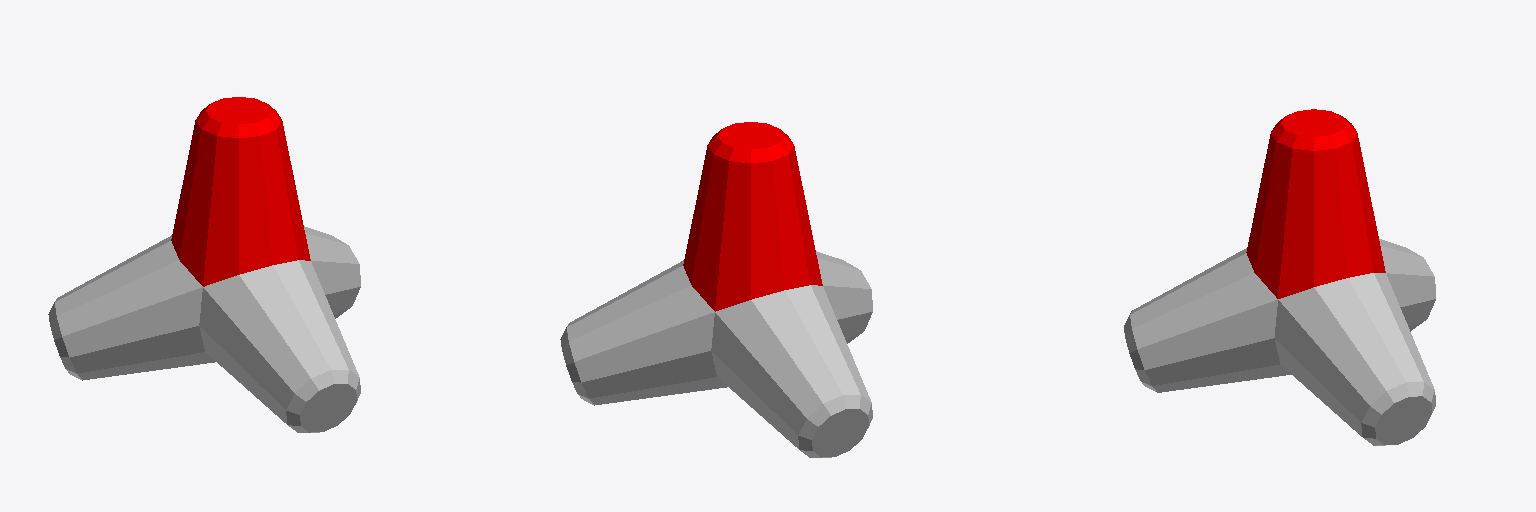
File: dice_tetrapod.obj
3 views of the same model, side by side, from view 1: azimuth 30°, elevation 25°; view 2: azimuth 150°, elevation 25°; view 3: azimuth 270°, elevation 25° (orthographic).
Parts seen in each view (by area): view 1: Cylinder.001, Cylinder.002, Cylinder.004, Cylinder.003; view 2: Cylinder.001, Cylinder.004, Cylinder.003, Cylinder.002; view 3: Cylinder.001, Cylinder.003, Cylinder.002, Cylinder.004.
Boxes of the visible parts, x1,y1,x2,y2 form: Cylinder.001: [171, 97, 310, 286]; Cylinder.002: [199, 260, 360, 432]; Cylinder.004: [48, 235, 215, 380]; Cylinder.003: [304, 226, 360, 318]; Cylinder.001: [683, 122, 822, 311]; Cylinder.004: [711, 285, 872, 457]; Cylinder.003: [560, 260, 727, 405]; Cylinder.002: [816, 251, 872, 343]; Cylinder.001: [1246, 109, 1385, 298]; Cylinder.003: [1275, 273, 1435, 445]; Cylinder.002: [1124, 248, 1291, 392]; Cylinder.004: [1379, 239, 1435, 331].
Size of the model in its own units: 1.19 by 0.9978 by 1.06.